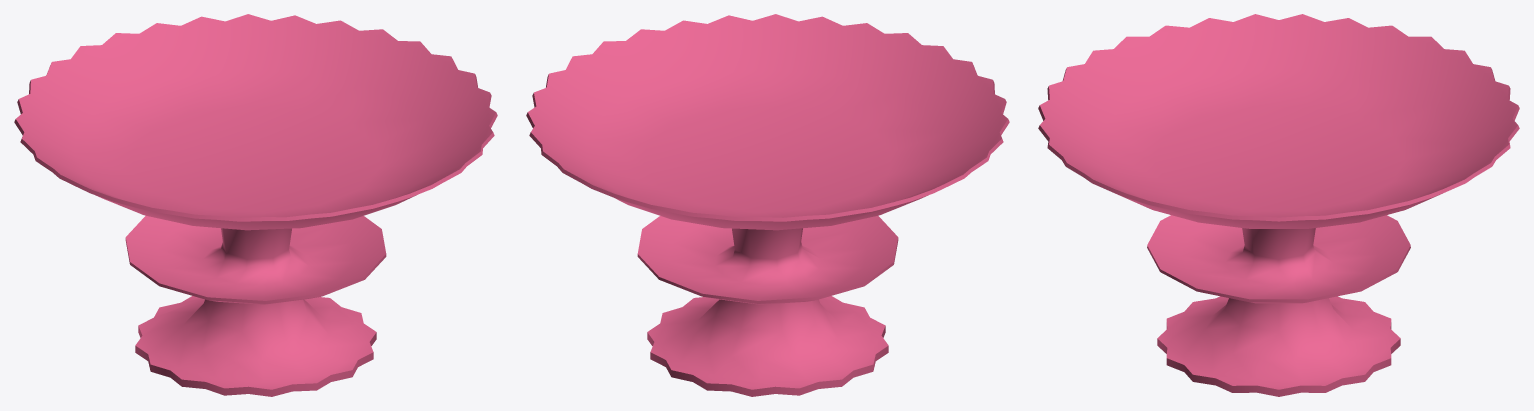
File: Tableware_V6_1.fbx
The picture shows the model from 3 angles, left to right: view 1: azimuth 30°, elevation 25°; view 2: azimuth 150°, elevation 25°; view 3: azimuth 270°, elevation 25°; orthographic projection.
Visible parts, largest first — view 1: SM_Tableware_V6_1; view 2: SM_Tableware_V6_1; view 3: SM_Tableware_V6_1.
Boxes of the visible parts, box(x1,y1,x2,y2) form: SM_Tableware_V6_1: box(14, 14, 497, 396); SM_Tableware_V6_1: box(526, 14, 1009, 396); SM_Tableware_V6_1: box(1038, 14, 1519, 396).
Size of the model in its own units: 22.08 by 11.66 by 22.08.
